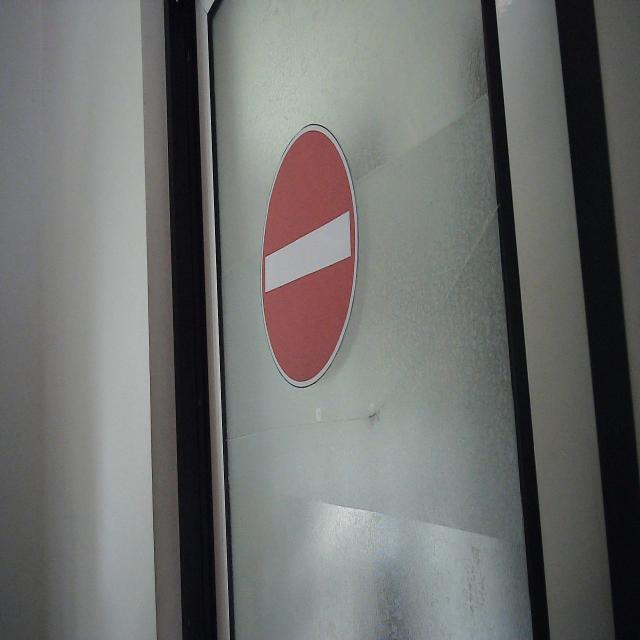no_entry: (258, 122, 362, 390)
